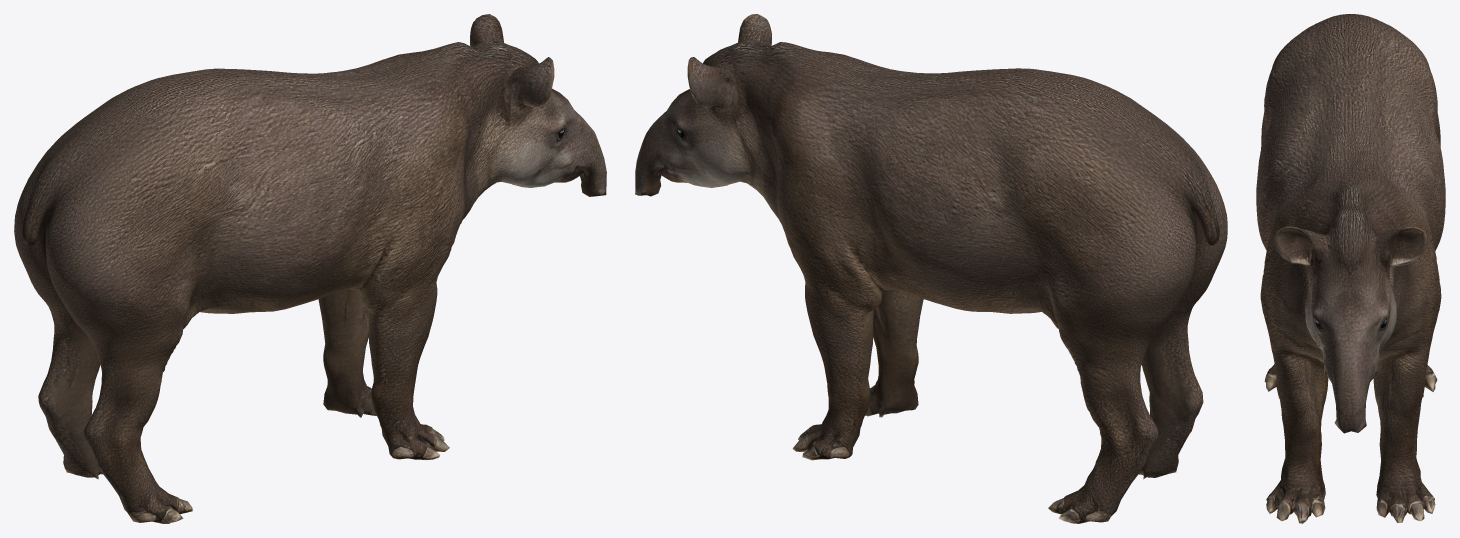
File: tapir-tripo-h31.glb
The picture shows the model from 3 angles, left to right: view 1: azimuth 30°, elevation 25°; view 2: azimuth 150°, elevation 25°; view 3: azimuth 270°, elevation 25°; orthographic projection. The views are drawn at different scales.
Visible parts, largest first — view 1: tripo_node_30729e0a-4ec2-489a-8fdb-b4962e5db175; view 2: tripo_node_30729e0a-4ec2-489a-8fdb-b4962e5db175; view 3: tripo_node_30729e0a-4ec2-489a-8fdb-b4962e5db175.
Boxes of the visible parts, x1,y1,x2,y2 form: tripo_node_30729e0a-4ec2-489a-8fdb-b4962e5db175: [14, 14, 606, 523]; tripo_node_30729e0a-4ec2-489a-8fdb-b4962e5db175: [635, 14, 1227, 523]; tripo_node_30729e0a-4ec2-489a-8fdb-b4962e5db175: [1256, 14, 1445, 523].
Bounding box in the file's own units: 0.98 × 0.6426 × 0.2876.
1 material, 1 textured.
